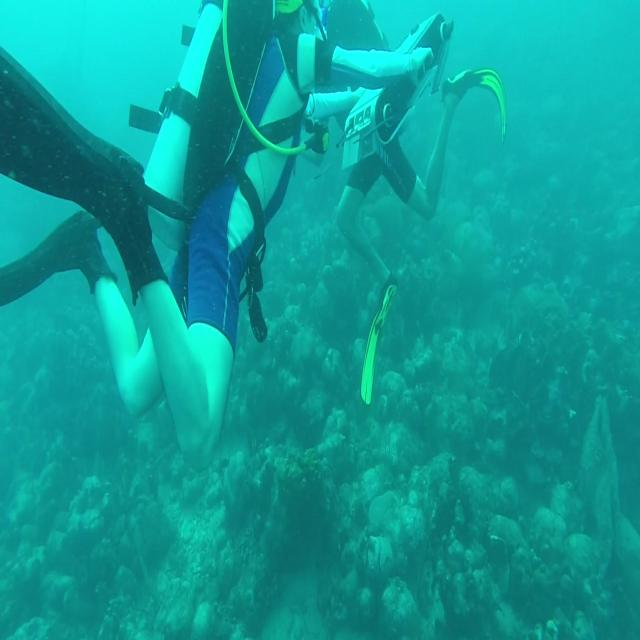human: (1, 1, 440, 468), (299, 6, 507, 406)
